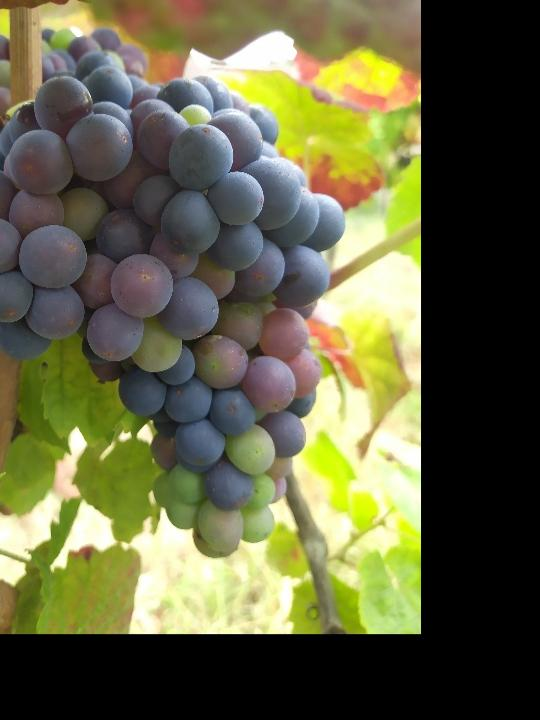grape: (0, 50, 348, 561)
